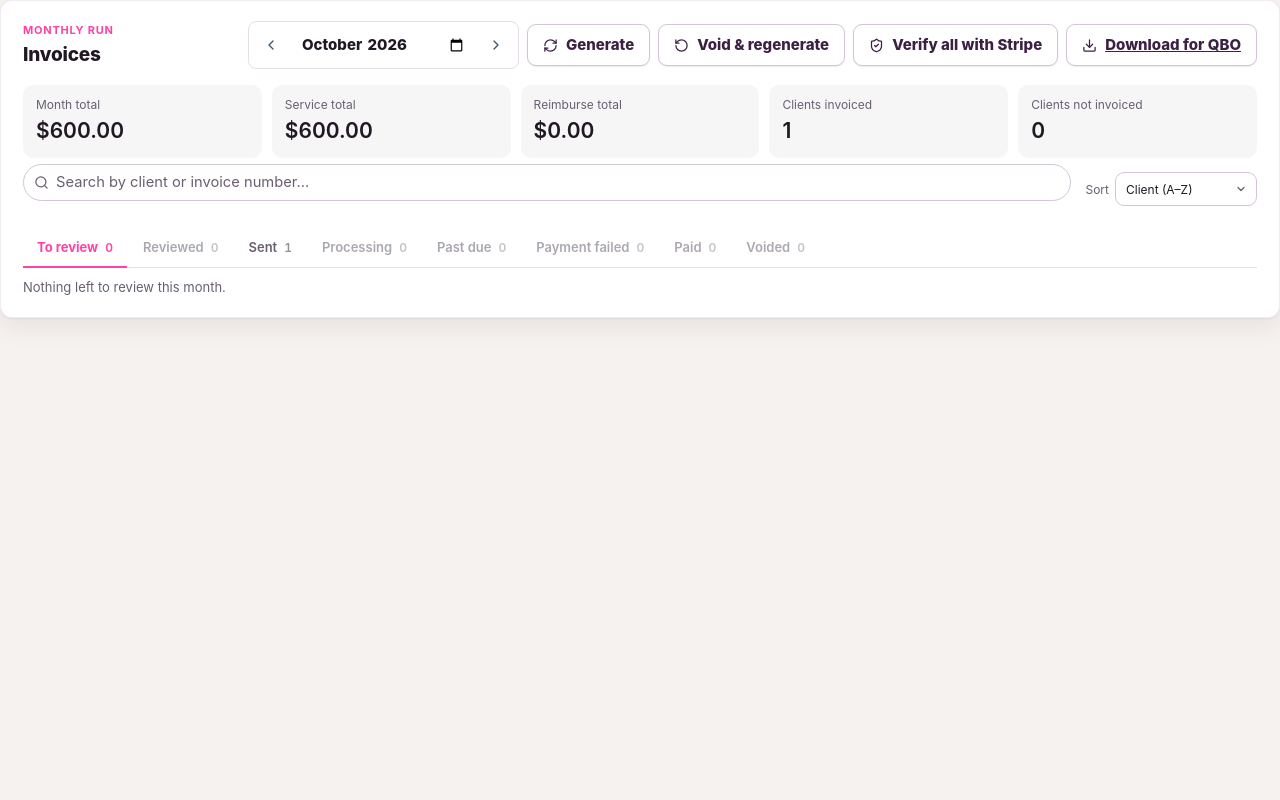
Test: the Send reminder button › is offered beside Send again on a sent invoice that is owed
The width and height of the screenshot is (1280, 800).
What coordinates should you click on to do the following:
click the tab "Sent 1"
I would click on:
 (270, 249)
Its box is top-left (234, 229), bottom-right (306, 268).
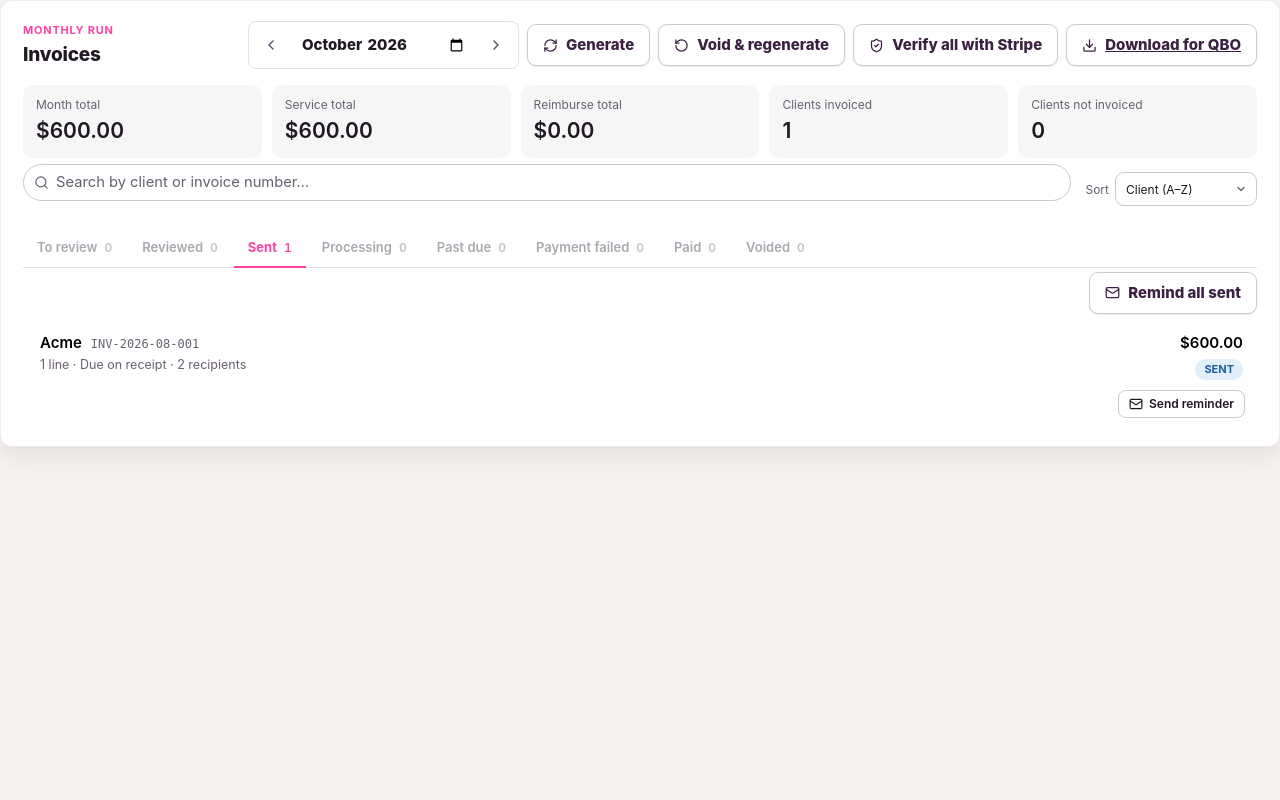
What coordinates should you click on to do the following:
click the text "INV-2026-08-001"
I would click on:
 (145, 344)
Its box is top-left (91, 336), bottom-right (199, 353).
(page scrolled)
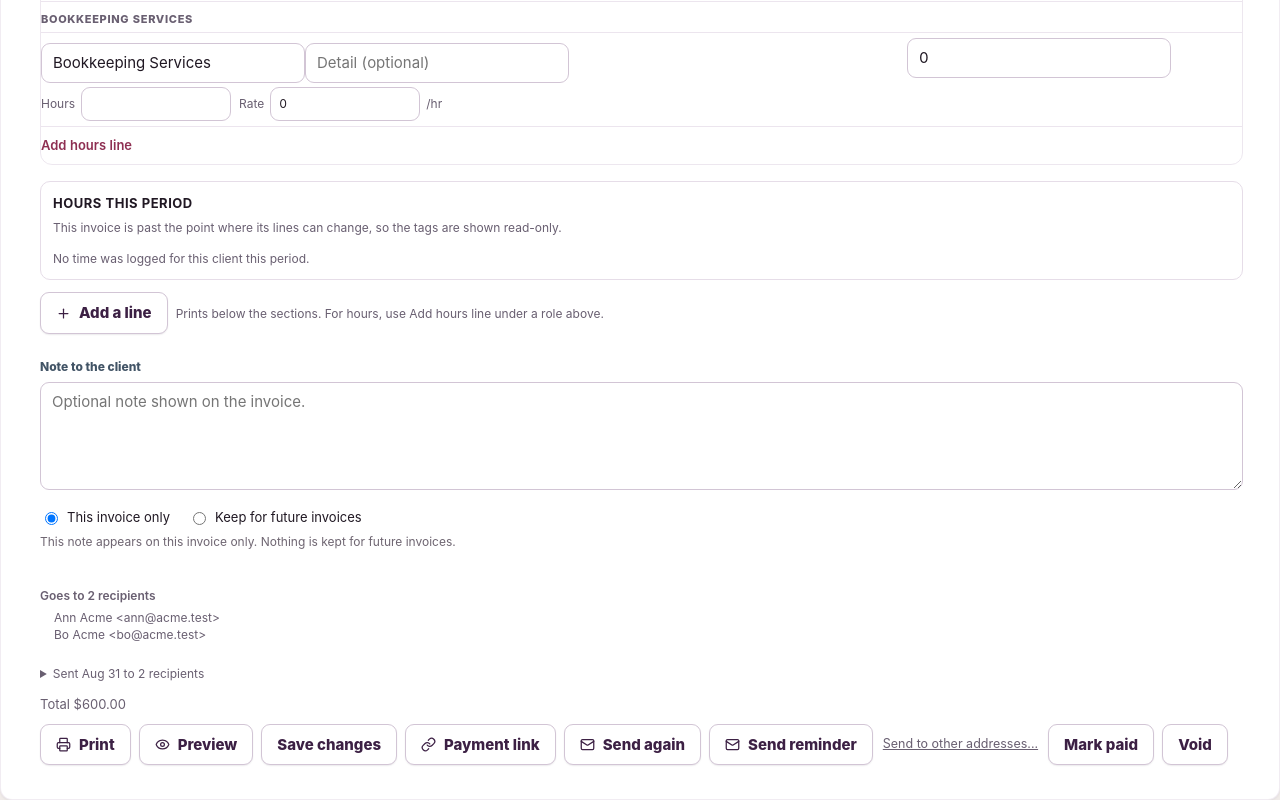
Result: the button "Send reminder" is enabled at top-left (709, 724), bottom-right (873, 765)
Result: the button "Send again" is shown at top-left (564, 724), bottom-right (701, 765)
